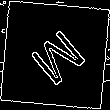M_SE: (21, 20, 89, 90)
